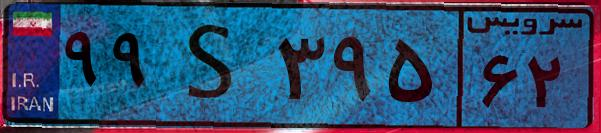2: (525, 38, 570, 115)
3: (270, 28, 330, 110)
5: (385, 28, 445, 110)
6: (475, 38, 525, 113)
9: (330, 28, 385, 110), (57, 26, 110, 100), (110, 28, 158, 98)
S: (158, 12, 270, 120)
